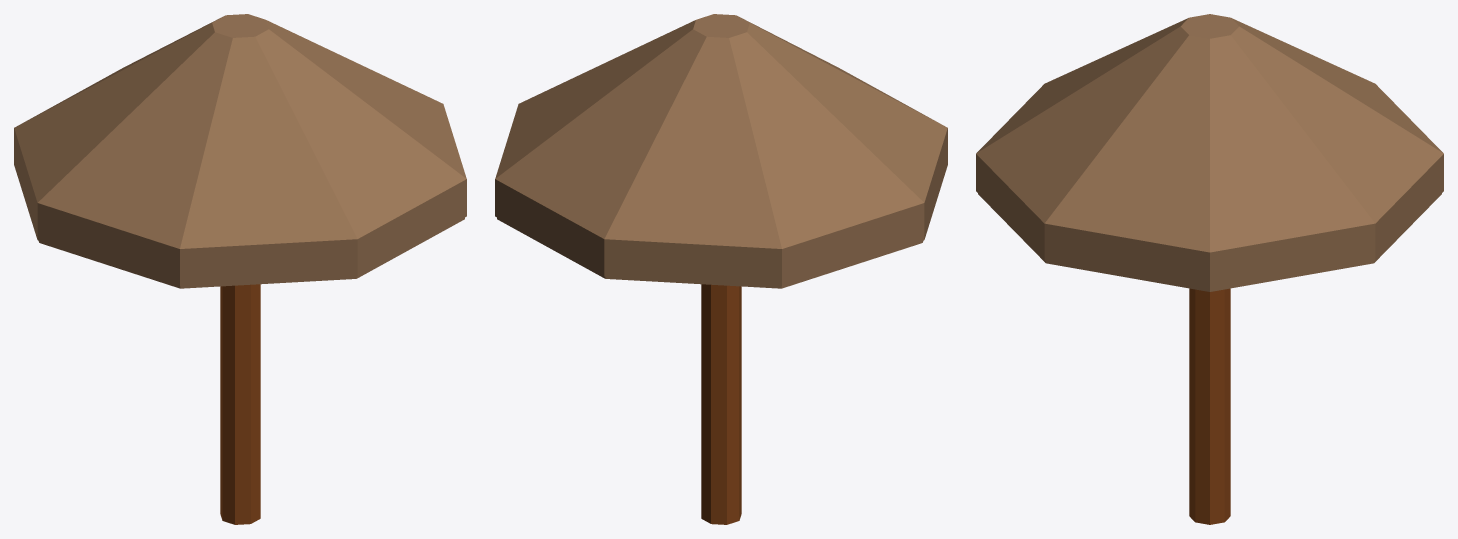
The model's file is ParasolStraw_tex.fbx.
3 views of the same model, side by side, from view 1: azimuth 30°, elevation 25°; view 2: azimuth 150°, elevation 25°; view 3: azimuth 270°, elevation 25° (orthographic).
Visible parts, largest first — view 1: ParasolStraw_tex; view 2: ParasolStraw_tex; view 3: ParasolStraw_tex.
Part boxes in pixels (x1=…): ParasolStraw_tex: x1=14, y1=14, x2=466, y2=524; ParasolStraw_tex: x1=495, y1=14, x2=947, y2=524; ParasolStraw_tex: x1=976, y1=14, x2=1443, y2=524.
Bounding box in the file's own units: 1.56 × 1.8 × 1.56.
